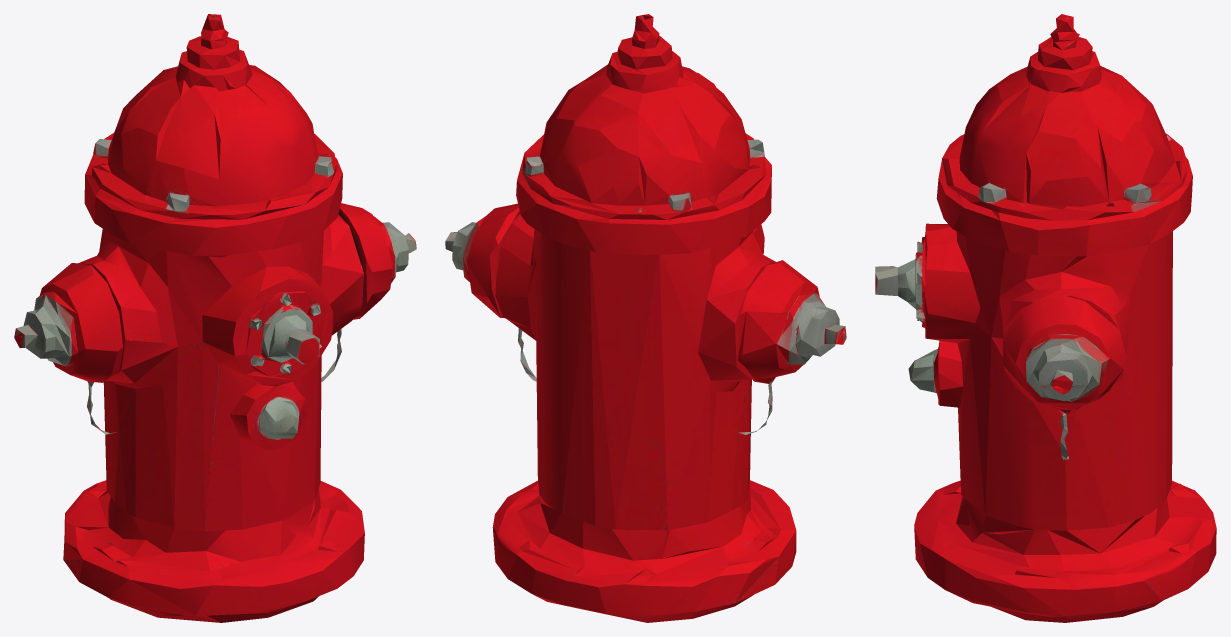
Rendered from hydrant.glb.
3 renders of one model, left to right at view 1: azimuth 30°, elevation 25°; view 2: azimuth 150°, elevation 25°; view 3: azimuth 270°, elevation 25°, orthographic.
Size of the model in its own units: 1.4 by 1.9 by 1.06.
Materials: 1 (1 with a texture image).
